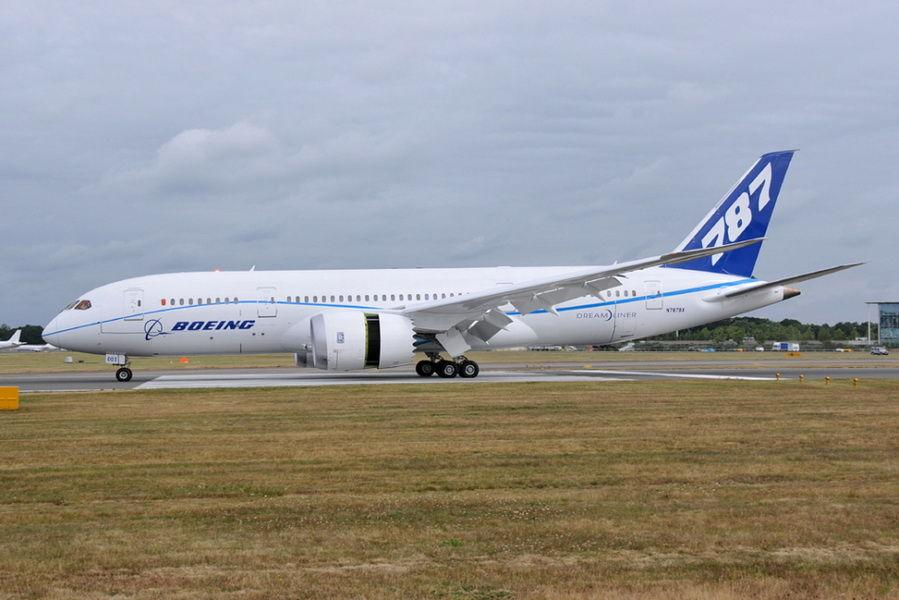airplane: (33, 144, 872, 382)
